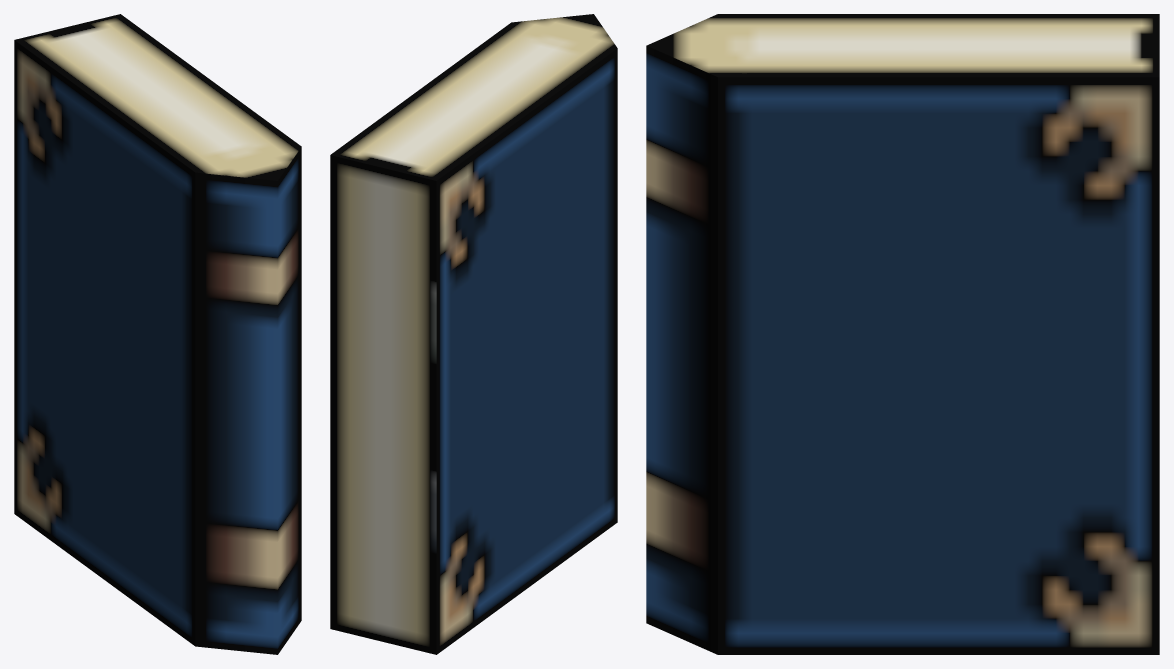
The model's file is deco_cathedral_book_B.FBX.
3 renders of one model, left to right at view 1: azimuth 30°, elevation 25°; view 2: azimuth 150°, elevation 25°; view 3: azimuth 270°, elevation 25°, orthographic. The views are drawn at different scales.
Visible parts, largest first — view 1: deco_cathedral_book_B; view 2: deco_cathedral_book_B; view 3: deco_cathedral_book_B.
Boxes of the visible parts, bbox=[...] form: deco_cathedral_book_B: bbox=[14, 14, 301, 654]; deco_cathedral_book_B: bbox=[330, 14, 617, 654]; deco_cathedral_book_B: bbox=[646, 14, 1159, 654].
Size of the model in its own units: 0.2349 by 1 by 0.8048.
Materials: 1 (1 with a texture image).
